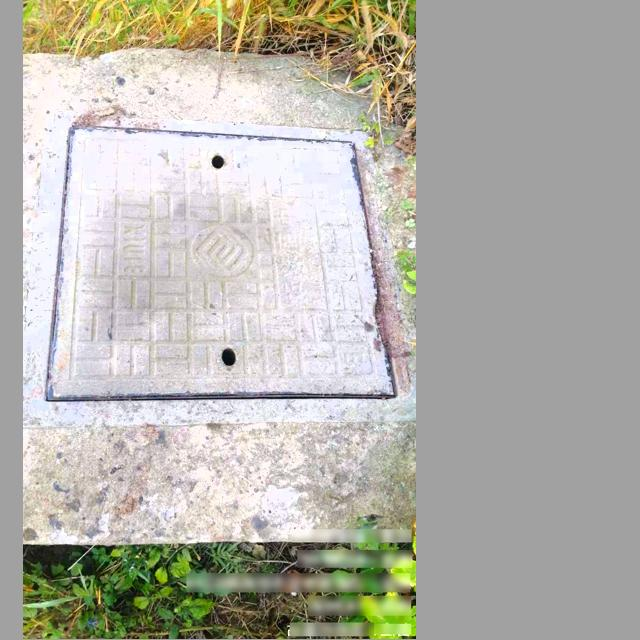good: (23, 116, 414, 429)
